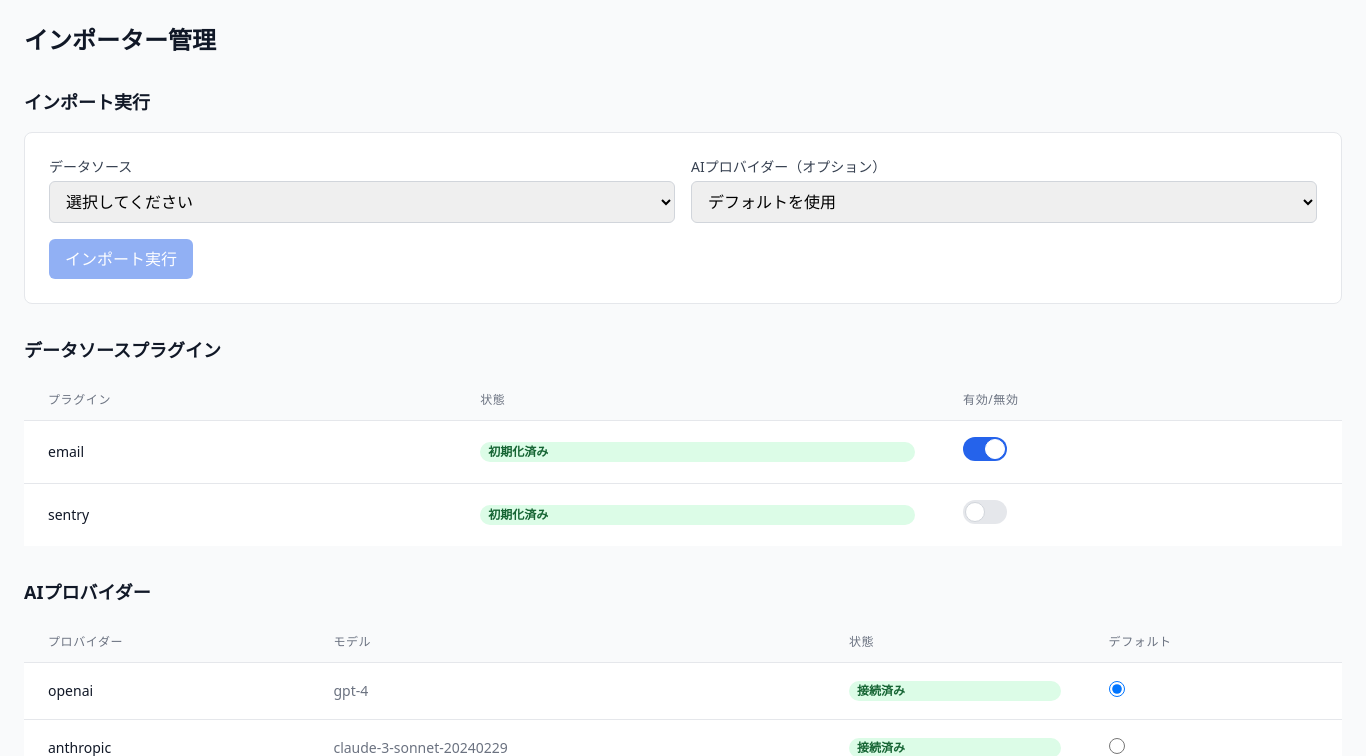
Test: Importer Integration Tests - Critical Paths › Error State Transitions › displays error message and allows retry after import failure
プラグイン選択とインポート実行
Select "email" in the dropdown labelled "データソース". click: coordinates (362, 202)
box: [49,181,675,223]
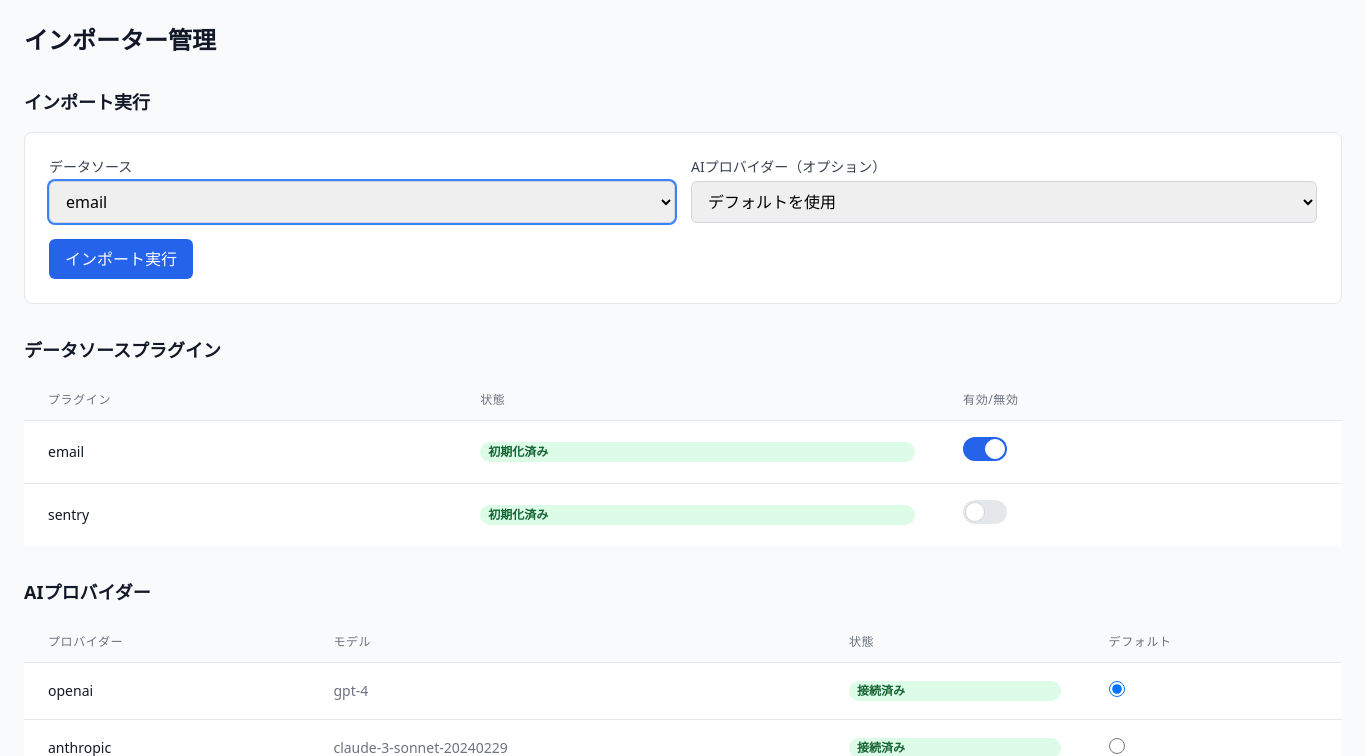
Click the button "インポート実行". click: coordinates (121, 259)
box: [49,239,193,279]
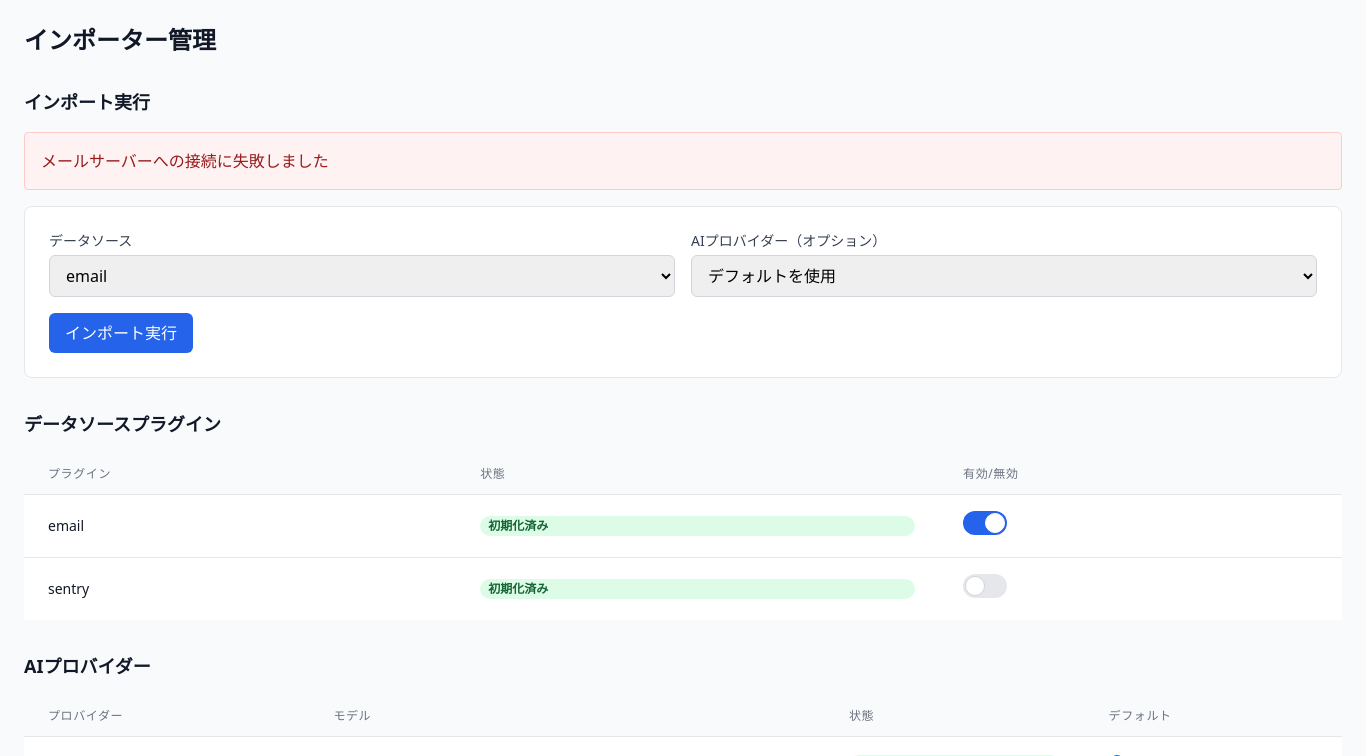
Expected: the button "インポート実行" is enabled
Expected: the text "メールサーバーへの接続に失敗しました" is shown, [41,150,329,172]
Act: 再実行
Click the button "インポート実行". click: coordinates (121, 333)
box: [49,313,193,353]
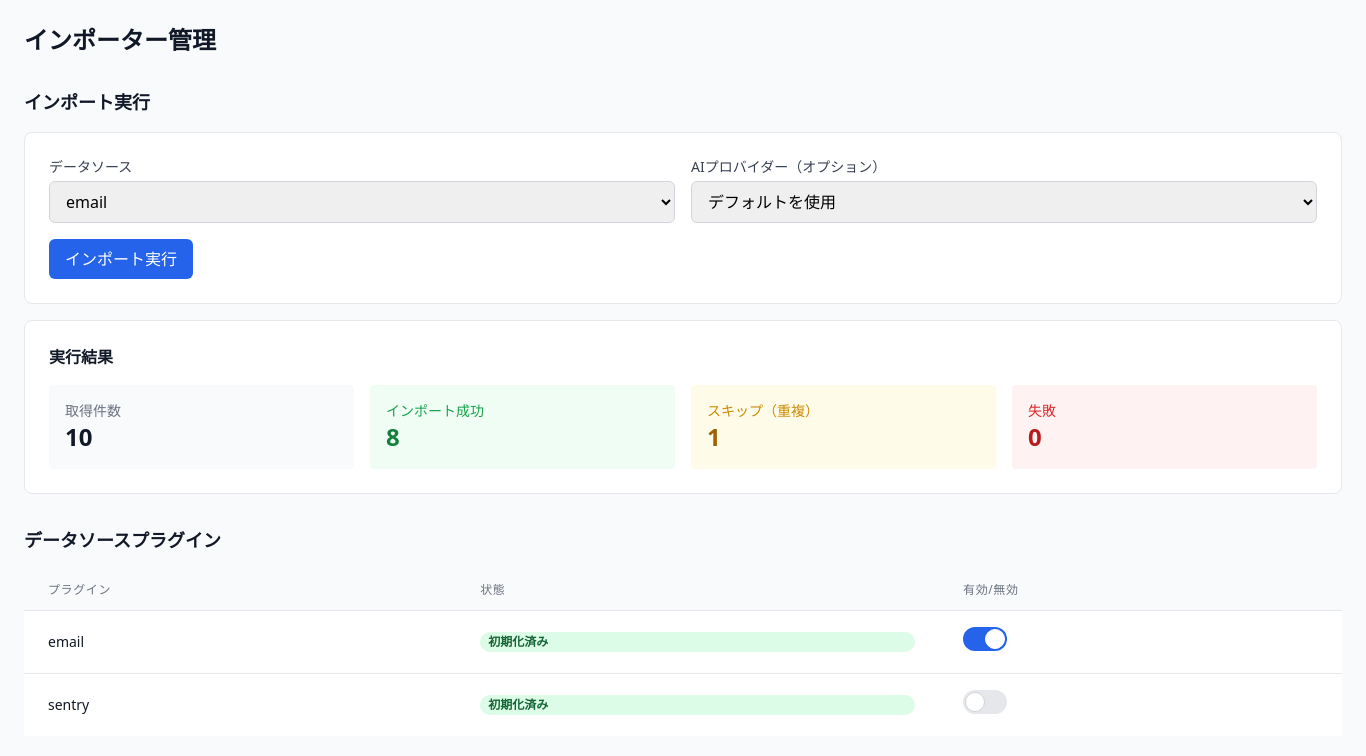
Expected: the heading "実行結果" is shown, [49,346,113,368]
